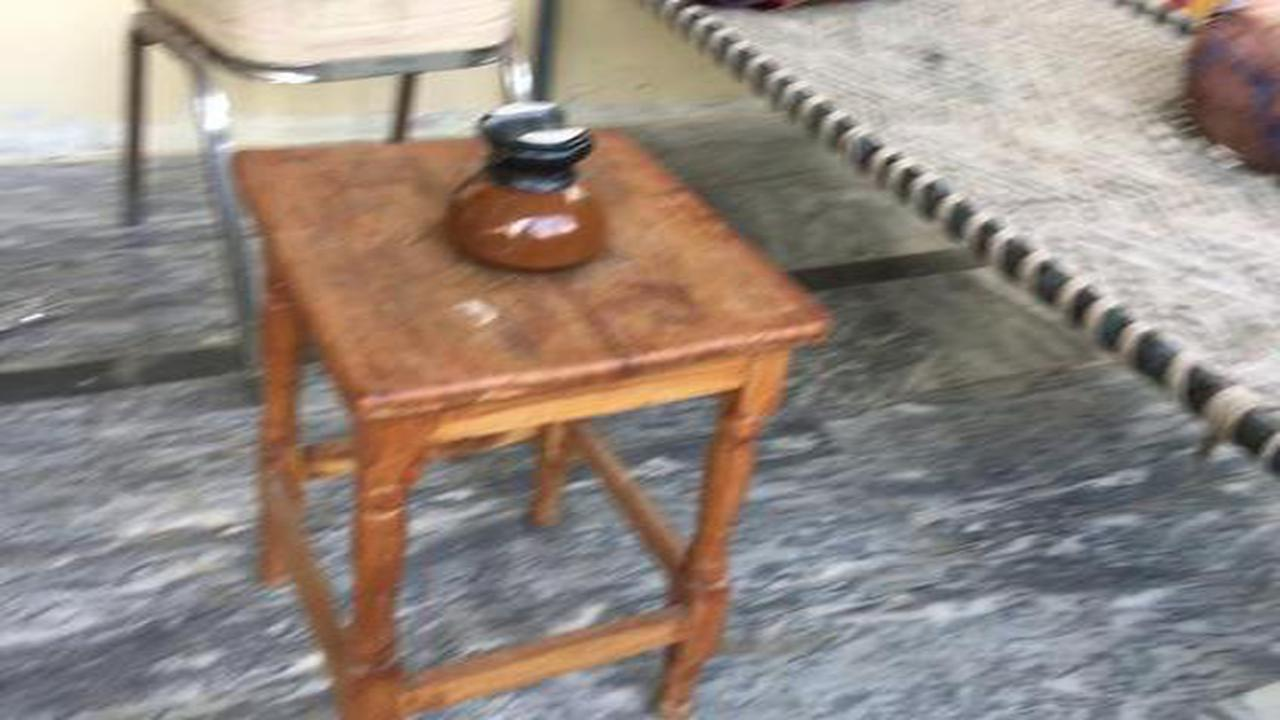insulator_pin: (413, 89, 628, 284)
